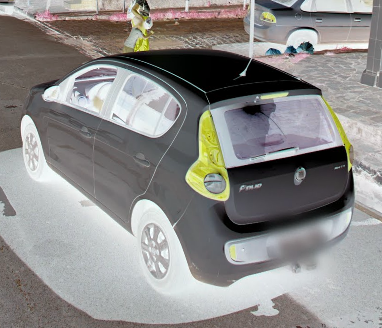car: (20, 48, 355, 295)
